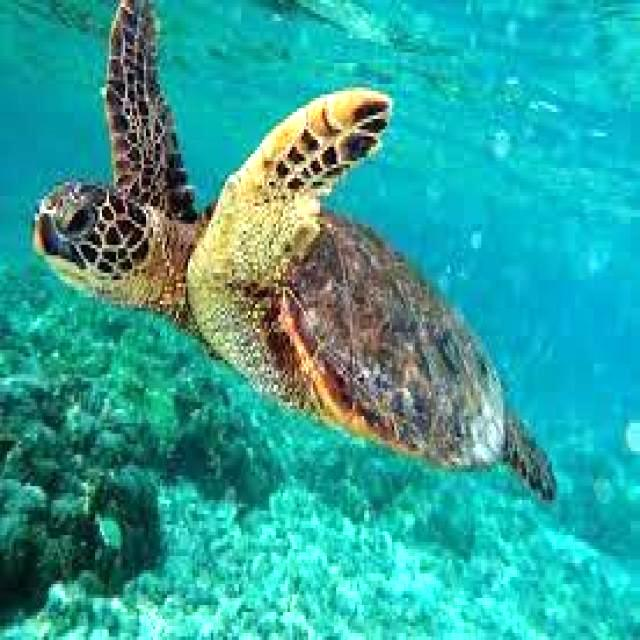Sea turtle: (32, 0, 560, 502)
